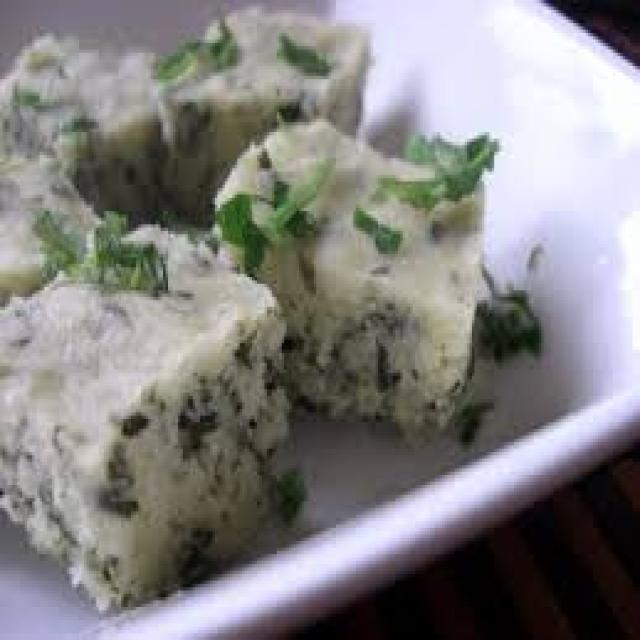DHOKLA: (0, 7, 494, 607)
